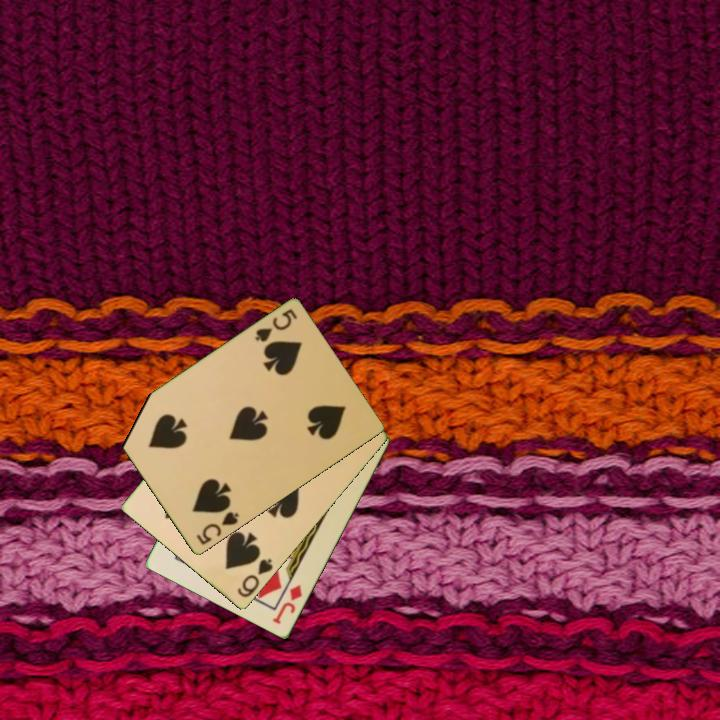5s: (192, 508, 242, 548), (251, 306, 300, 346)
6s: (234, 555, 276, 601)
Jd: (269, 581, 305, 627)
